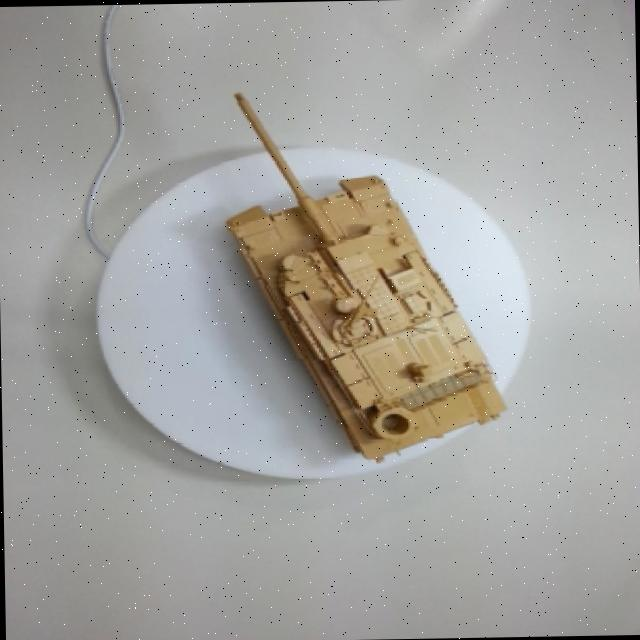korea tank: (197, 80, 520, 508)
